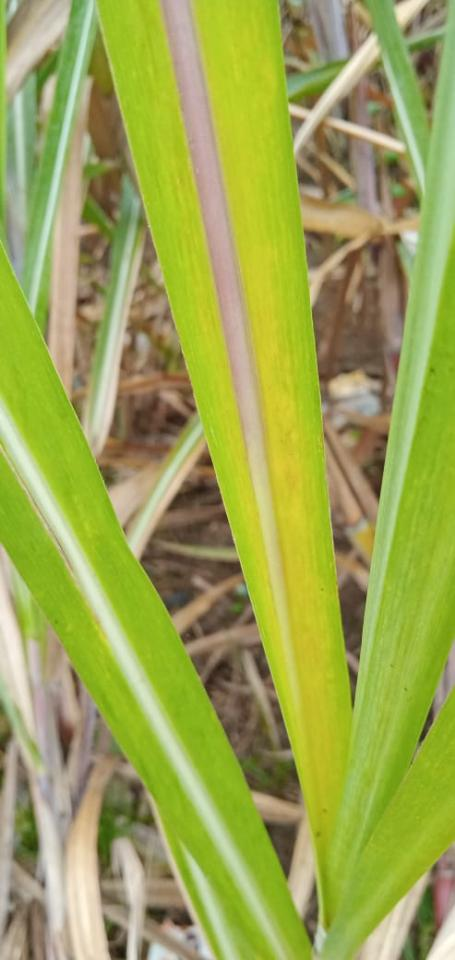RedRot: (161, 0, 260, 463)
Yellow: (114, 0, 331, 832)
